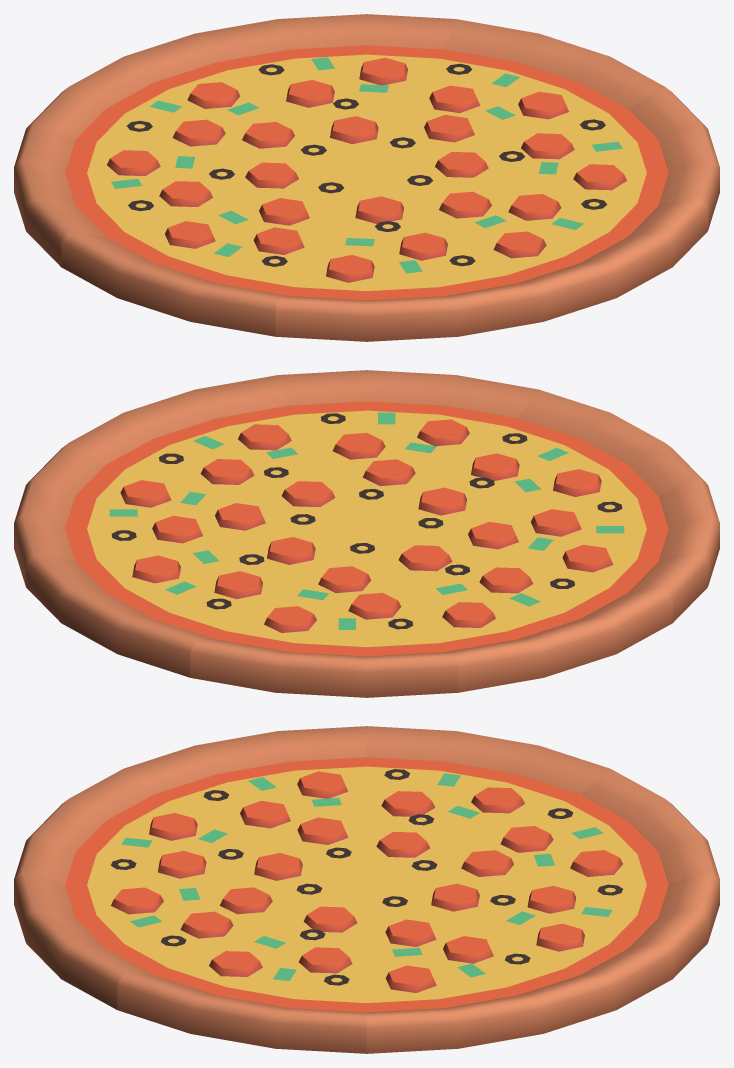
File: pizza.glb
3 views of the same model, one above another, from view 1: azimuth 30°, elevation 25°; view 2: azimuth 150°, elevation 25°; view 3: azimuth 270°, elevation 25° (orthographic).
Visible parts, largest first — view 1: slice7, slice8, slice6, slice3, slice4, slice1, slice2, slice5; view 2: slice2, slice1, slice3, slice6, slice5, slice8, slice7, slice4; view 3: slice4, slice5, slice6, slice3, slice8, slice1, slice2, slice7.
Part boxes in pixels (bbox=[...]): slice7: bbox=[275, 173, 543, 341]; slice8: bbox=[61, 173, 366, 336]; slice6: bbox=[367, 173, 707, 321]; slice3: bbox=[195, 14, 455, 172]; slice4: bbox=[367, 19, 664, 172]; slice1: bbox=[14, 122, 365, 266]; slice2: bbox=[27, 33, 366, 172]; slice5: bbox=[367, 87, 719, 230]; slice2: bbox=[190, 529, 458, 697]; slice1: bbox=[367, 529, 672, 692]; slice3: bbox=[26, 529, 366, 677]; slice6: bbox=[278, 370, 538, 528]; slice5: bbox=[69, 375, 366, 528]; slice8: bbox=[368, 478, 719, 622]; slice7: bbox=[367, 389, 705, 528]; slice4: bbox=[14, 443, 366, 586]; slice4: bbox=[367, 885, 616, 1053]; slice5: bbox=[117, 885, 366, 1053]; slice6: bbox=[14, 871, 365, 1009]; slice3: bbox=[368, 871, 719, 1009]; slice8: bbox=[123, 726, 366, 884]; slice1: bbox=[367, 726, 610, 884]; slice2: bbox=[367, 769, 719, 884]; slice7: bbox=[14, 769, 366, 884].
Size of the model in its own units: 0.3 by 0.0155 by 0.3.
1 material, 1 textured.
